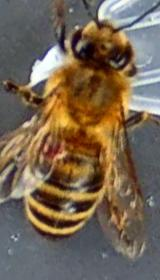varroa_mite: (34, 134, 80, 158)
